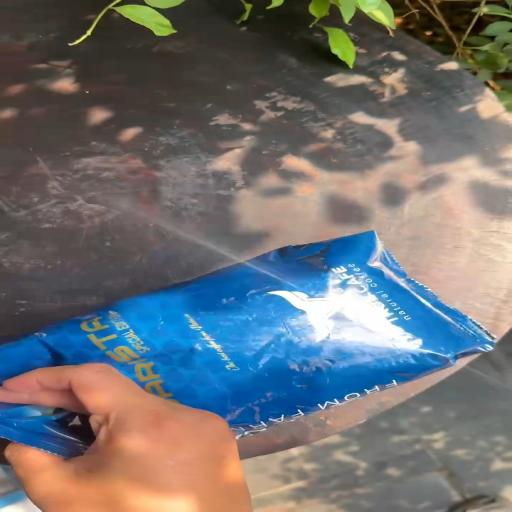cafe_hat: (0, 231, 494, 438), (0, 399, 92, 456)
